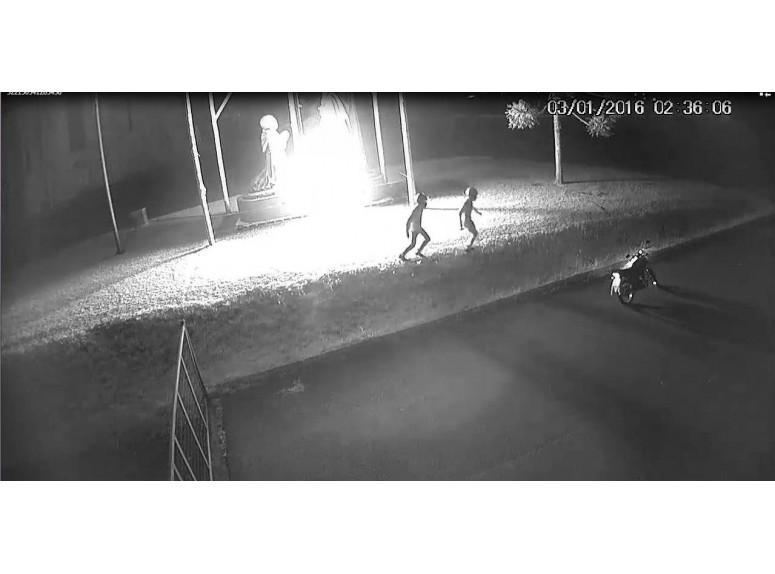Humano: (397, 190, 441, 267), (456, 184, 492, 249)
